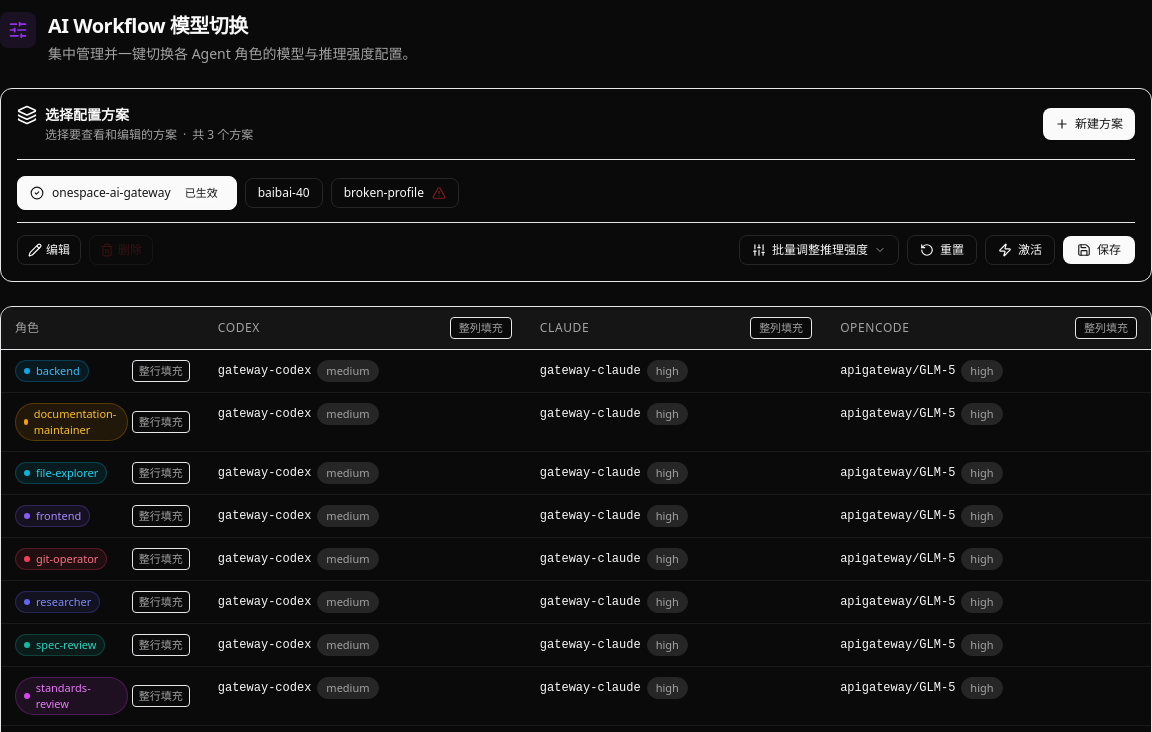
Test case: AiWorkflowModelSwitcher 行为测试 › AC-003: 切换选中的 profile 重新渲染矩阵；非法文件错误展示 › 选中非法 yaml profile 时安全报错并展示具体文件名与原因
Click the button "broken-profile". click: coordinates (395, 193)
box: x1=331 y1=178 x2=459 y2=208
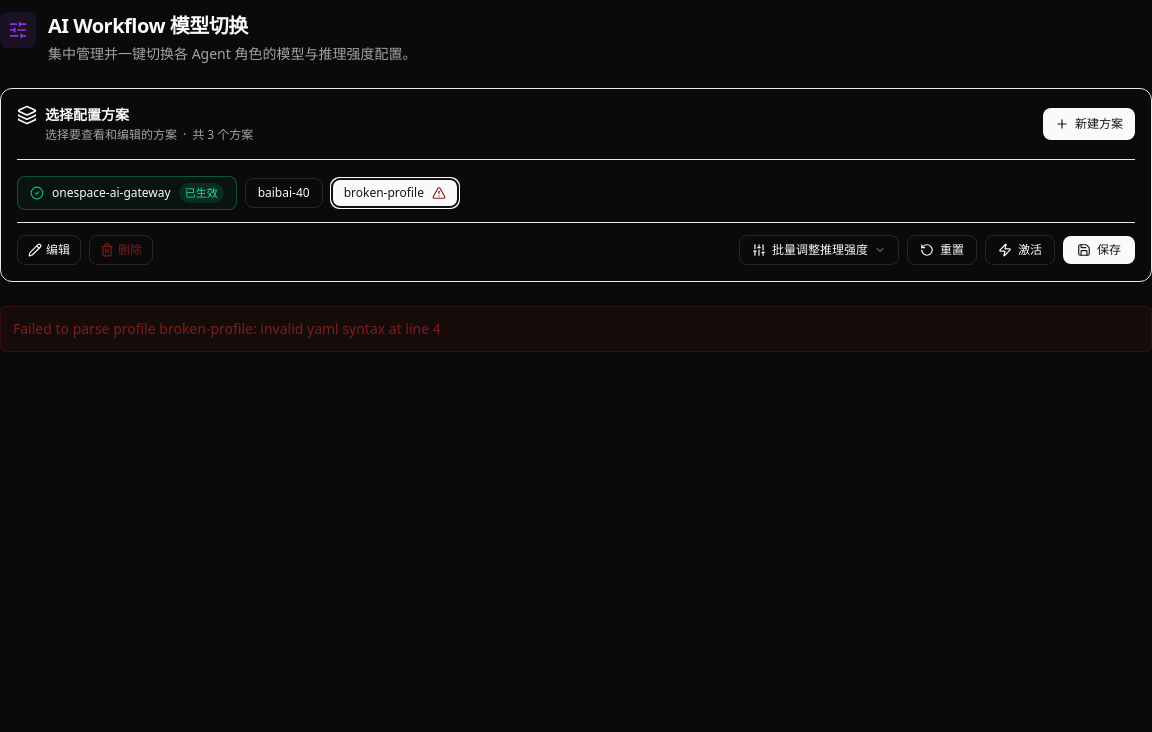
Check: the message shows "broken-profile", box x1=13 y1=319 x2=441 y2=338
Check: the message shows "invalid yaml syntax", box x1=13 y1=319 x2=441 y2=338
